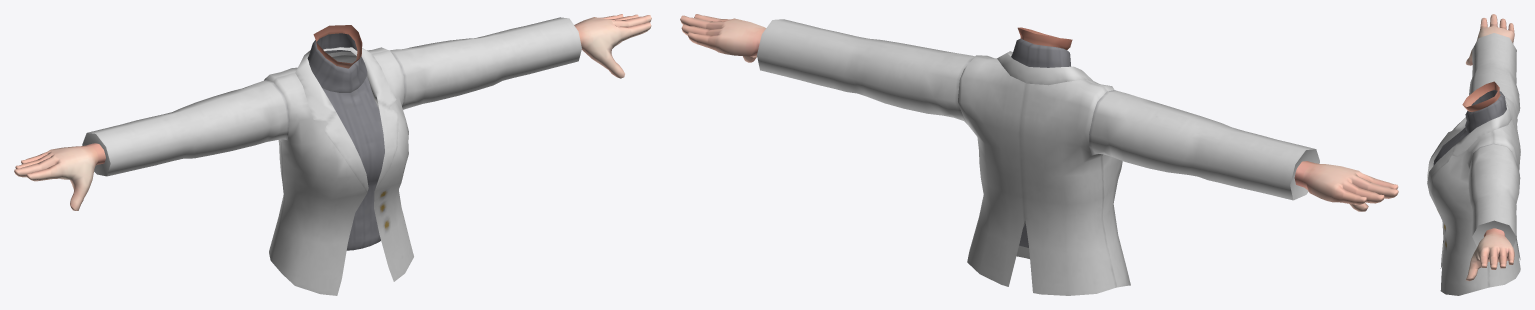
File: tr0810_00_upb03.gltf
The picture shows the model from 3 angles, left to right: view 1: azimuth 30°, elevation 25°; view 2: azimuth 150°, elevation 25°; view 3: azimuth 270°, elevation 25°; orthographic projection. The views are drawn at different scales.
Parts seen in each view (by area): view 1: upb03_upperbody_mesh_shape:upperbody03, upb03_upperskin_mesh_shape:upperbody03_skin; view 2: upb03_upperbody_mesh_shape:upperbody03, upb03_upperskin_mesh_shape:upperbody03_skin; view 3: upb03_upperbody_mesh_shape:upperbody03, upb03_upperskin_mesh_shape:upperbody03_skin.
Boxes of the visible parts, x1=… form: upb03_upperbody_mesh_shape:upperbody03: x1=82, y1=17, x2=581, y2=295; upb03_upperskin_mesh_shape:upperbody03_skin: x1=14, y1=14, x2=651, y2=210; upb03_upperbody_mesh_shape:upperbody03: x1=757, y1=19, x2=1319, y2=295; upb03_upperskin_mesh_shape:upperbody03_skin: x1=680, y1=14, x2=1398, y2=211; upb03_upperbody_mesh_shape:upperbody03: x1=1427, y1=33, x2=1520, y2=295; upb03_upperskin_mesh_shape:upperbody03_skin: x1=1462, y1=14, x2=1514, y2=281.
Size of what is drawn, in the model's own units: 1.63 by 0.5805 by 0.2563.
Materials: 2 (2 with a texture image).
